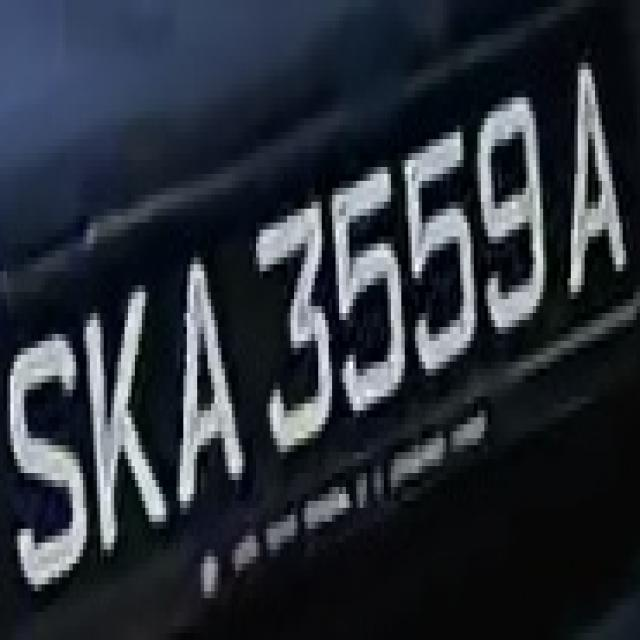3: (253, 216, 339, 473)
5: (394, 132, 484, 390), (325, 167, 408, 431)
9: (467, 90, 557, 327)
A: (148, 222, 245, 508), (550, 49, 623, 306)
K: (72, 258, 170, 550)
S: (7, 299, 97, 605)
